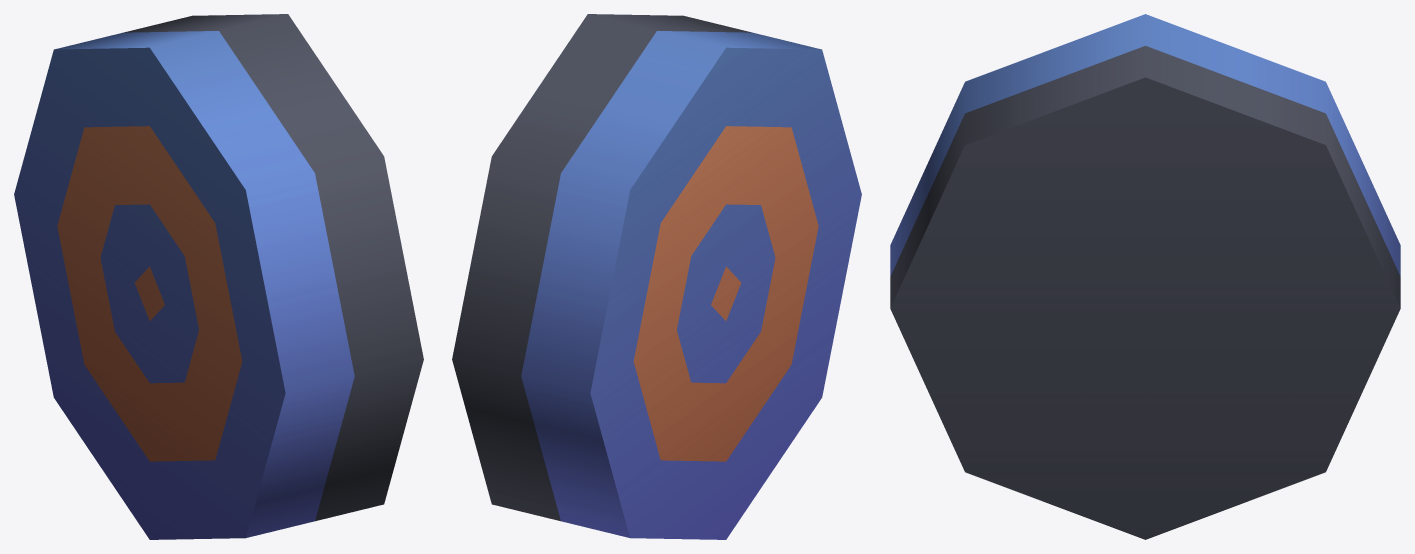
Rendered from target-large.glb.
3 renders of one model, left to right at view 1: azimuth 30°, elevation 25°; view 2: azimuth 150°, elevation 25°; view 3: azimuth 270°, elevation 25°, orthographic. The views are drawn at different scales.
Visible parts, largest first — view 1: target-large; view 2: target-large; view 3: target-large.
Boxes of the visible parts, x1,y1,x2,y2 form: target-large: (14,14,423,539); target-large: (452,14,861,539); target-large: (890,14,1400,539).
Size of the model in its own units: 0.1 by 0.34 by 0.34.
Materials: 1 (1 with a texture image).
